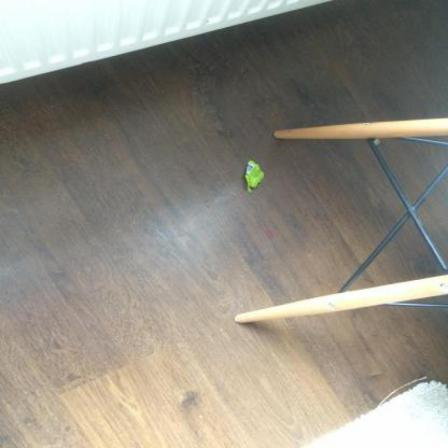Plastic bag - wrapper: (247, 161, 266, 194)
